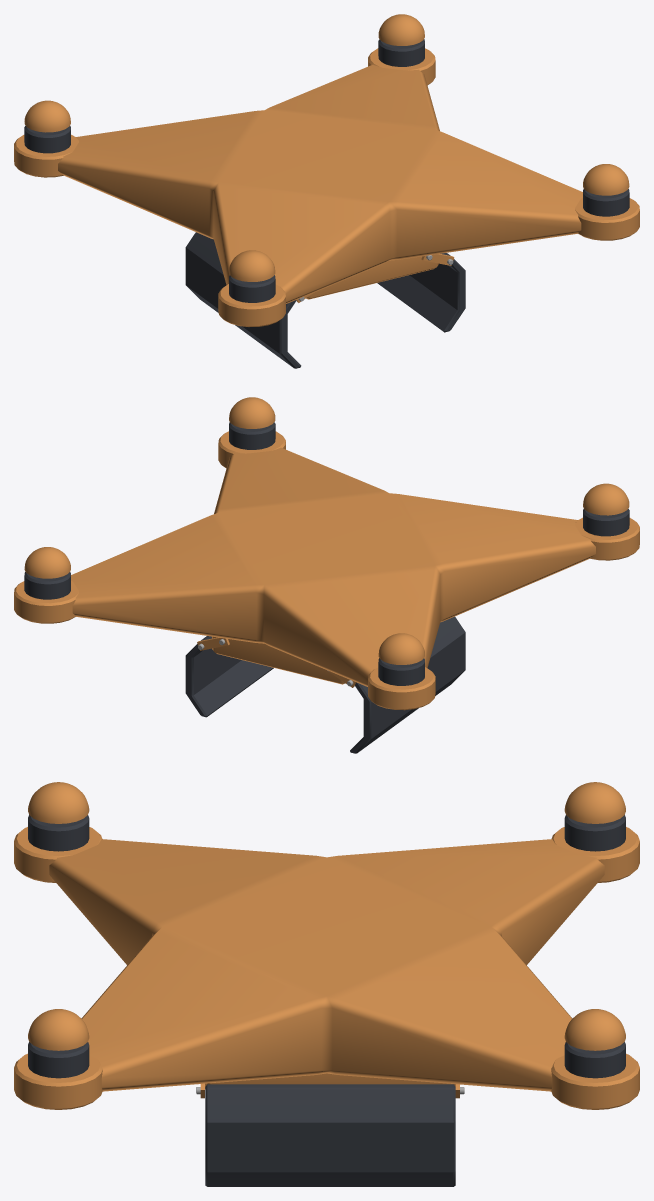
The model's file is Drone01.fbx.
3 views of the same model, one above another, from view 1: azimuth 30°, elevation 25°; view 2: azimuth 150°, elevation 25°; view 3: azimuth 270°, elevation 25° (orthographic). The views are drawn at different scales.
Parts seen in each view (by area): view 1: Drone01:pCube4, Drone01:pSphere13, pSphere13, Drone01:pCube14, pSphere15, Drone01:pCube16, pSphere14, Drone01:polySurface4; view 2: Drone01:pCube4, pSphere15, pSphere14, Drone01:pCube14, Drone01:pSphere13, Drone01:pCube16, pSphere13, Drone01:polySurface4; view 3: Drone01:pCube4, Drone01:pCube14, pSphere13, pSphere14, Drone01:pSphere13, pSphere15, Drone01:polySurface4.
Boxes of the visible parts, box(x1,y1,x2,y2) form: Drone01:pCube4: box(58, 64, 582, 303); Drone01:pSphere13: box(218, 250, 285, 326); pSphere13: box(575, 164, 639, 240); Drone01:pCube14: box(377, 253, 465, 332); pSphere15: box(14, 100, 78, 177); Drone01:pCube16: box(185, 232, 301, 368); pSphere14: box(368, 14, 435, 85); Drone01:polySurface4: box(306, 256, 438, 299); Drone01:pCube4: box(71, 447, 595, 686); pSphere15: box(368, 633, 435, 710); pSphere14: box(14, 547, 78, 623); Drone01:pCube14: box(185, 636, 273, 717); Drone01:pSphere13: box(575, 483, 639, 560); Drone01:pCube16: box(350, 616, 465, 753); pSphere13: box(218, 397, 285, 468); Drone01:polySurface4: box(212, 636, 345, 684); Drone01:pCube4: box(49, 839, 604, 1091); Drone01:pCube14: box(205, 1084, 455, 1186); pSphere13: box(14, 1009, 102, 1109); pSphere14: box(551, 1009, 639, 1109); Drone01:pSphere13: box(14, 782, 102, 882); pSphere15: box(551, 782, 639, 882); Drone01:polySurface4: box(205, 1073, 455, 1088).
Size of the model in its own units: 51.32 by 21.64 by 51.32.
